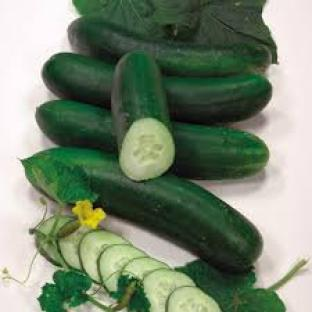Cucumber: (23, 149, 263, 271), (68, 17, 270, 76), (111, 52, 174, 181), (172, 124, 269, 180), (164, 74, 271, 124), (80, 231, 127, 282), (99, 245, 145, 292), (143, 270, 195, 311), (35, 215, 73, 266), (57, 227, 90, 270), (167, 286, 221, 311), (123, 257, 169, 280)
